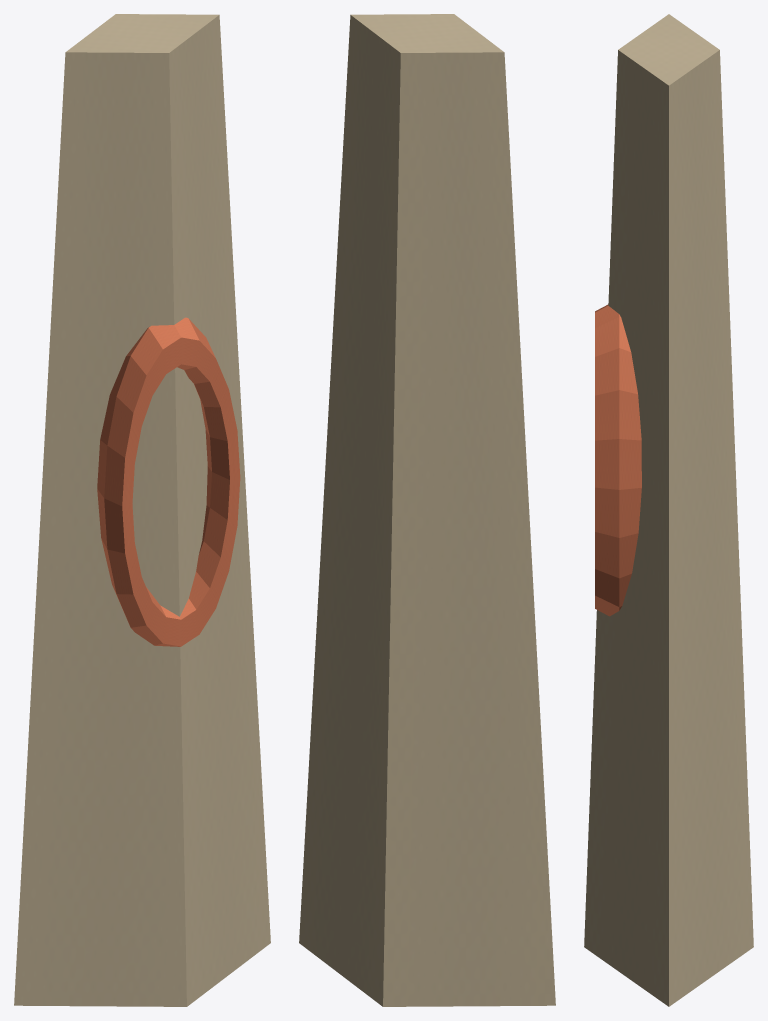
The model's file is atlas100-s041-a05.glb.
3 views of the same model, side by side, from view 1: azimuth 30°, elevation 25°; view 2: azimuth 150°, elevation 25°; view 3: azimuth 270°, elevation 25° (orthographic). The views are drawn at different scales.
Visible parts, largest first — view 1: atlas100-s041-a05:part-000, atlas100-s041-a05:part-001; view 2: atlas100-s041-a05:part-000; view 3: atlas100-s041-a05:part-000, atlas100-s041-a05:part-001.
Boxes of the visible parts, <box> form: atlas100-s041-a05:part-000: <box>14,14,270,1006</box>; atlas100-s041-a05:part-001: <box>97,317,240,646</box>; atlas100-s041-a05:part-000: <box>299,14,555,1006</box>; atlas100-s041-a05:part-000: <box>584,14,753,1006</box>; atlas100-s041-a05:part-001: <box>595,304,641,616</box>.
Bounding box in the file's own units: 0.2184 × 0.7644 × 0.131.
2 materials, 2 textured.
